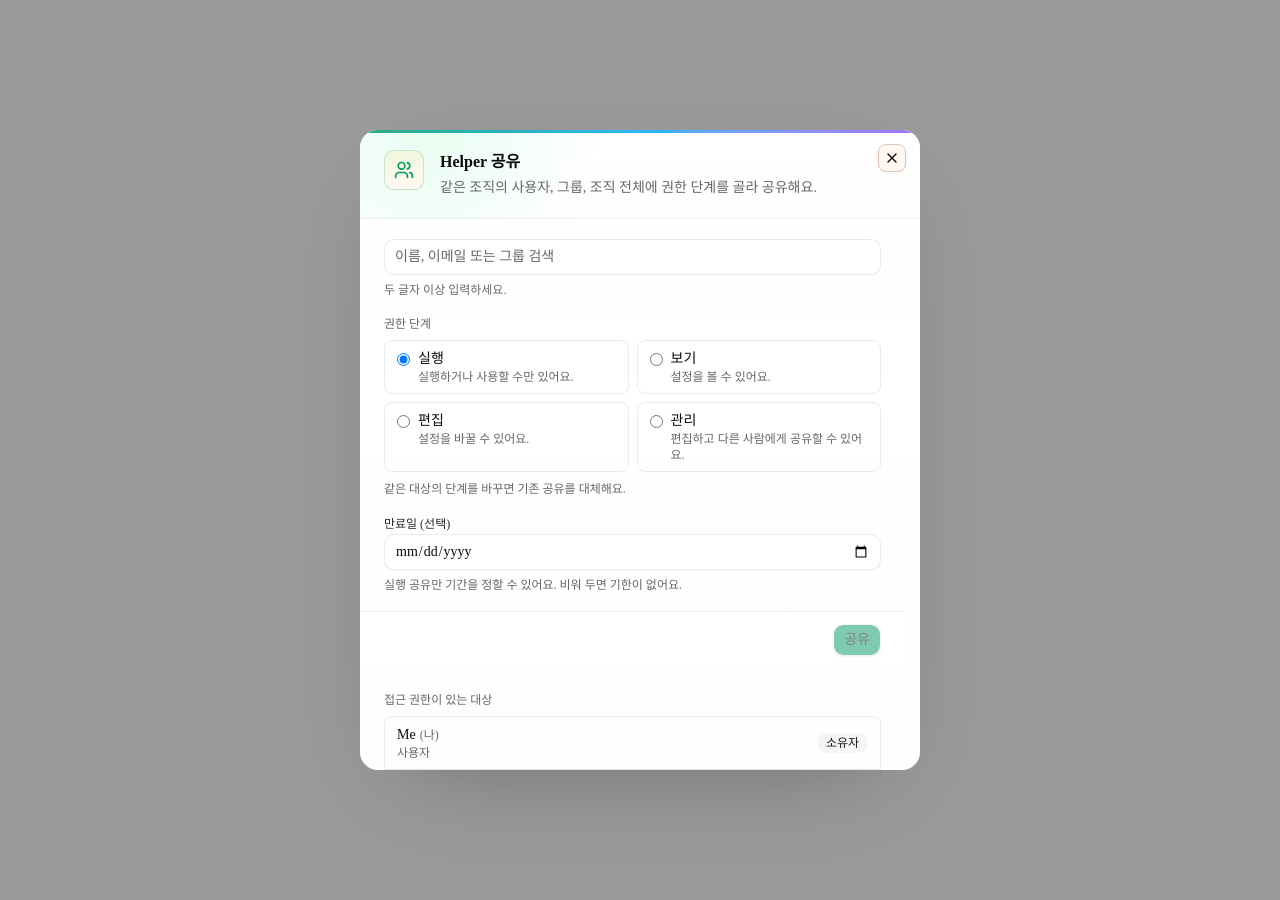
ResourceShareDialog › hides expiry for levels other than agent run
The width and height of the screenshot is (1280, 900).
Click the radio button labelled "편집 설정을 바꿀 수 있어요.": (404,421) [397,415,410,428]
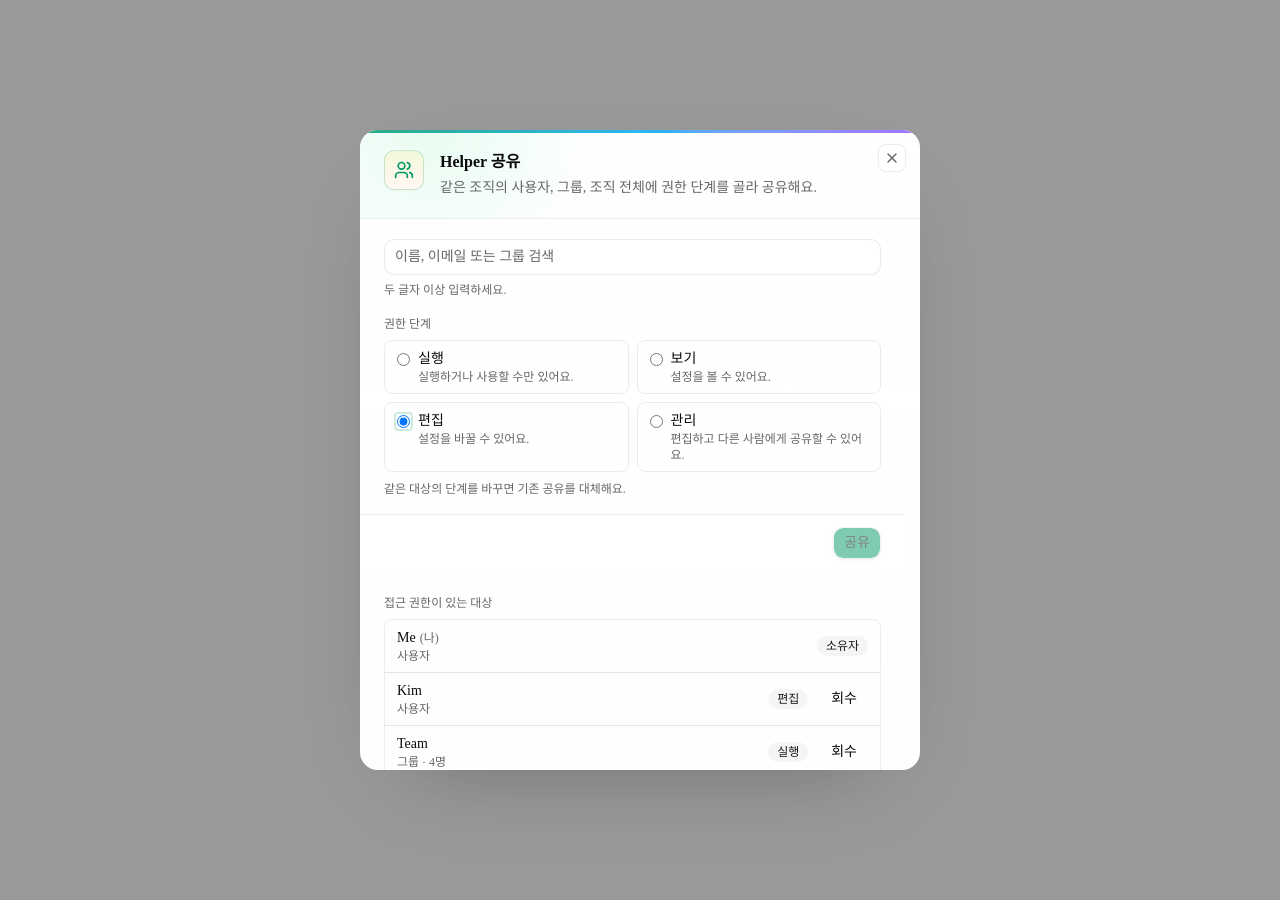
Now the label labelled "만료일 (선택)" is gone
